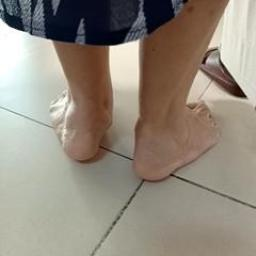Back View -Both Feet-: (36, 58, 227, 193)
